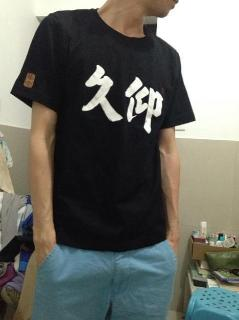short sleeve top: (10, 9, 196, 253)
shorts: (31, 227, 179, 319)
